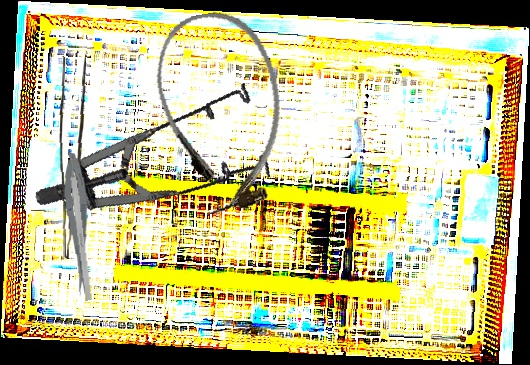Cannula: (146, 3, 298, 220)
Hook Surgical: (66, 148, 93, 301)
Micro Scissor: (61, 152, 93, 298)
Speculum: (31, 38, 292, 260)
Tissue Forceps: (56, 55, 93, 260)
